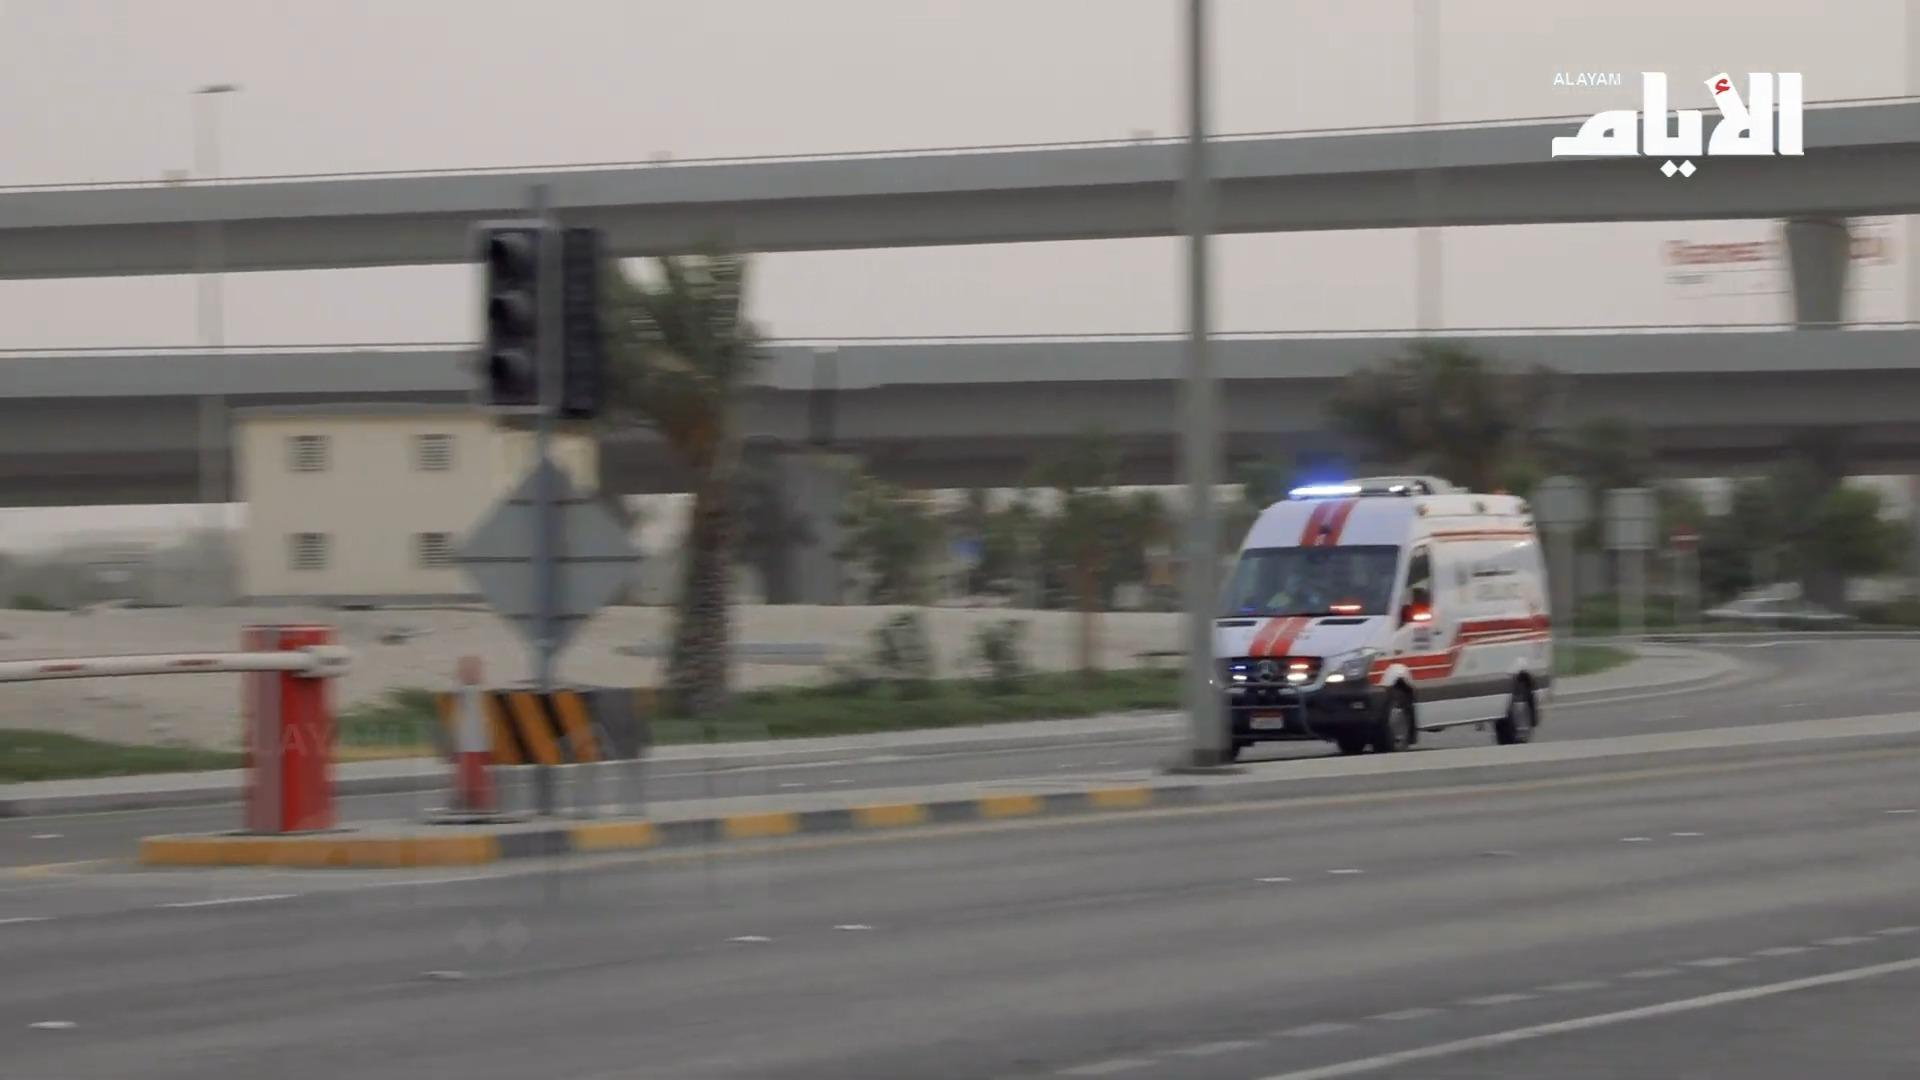ambulance_on: (1211, 479, 1551, 762)
